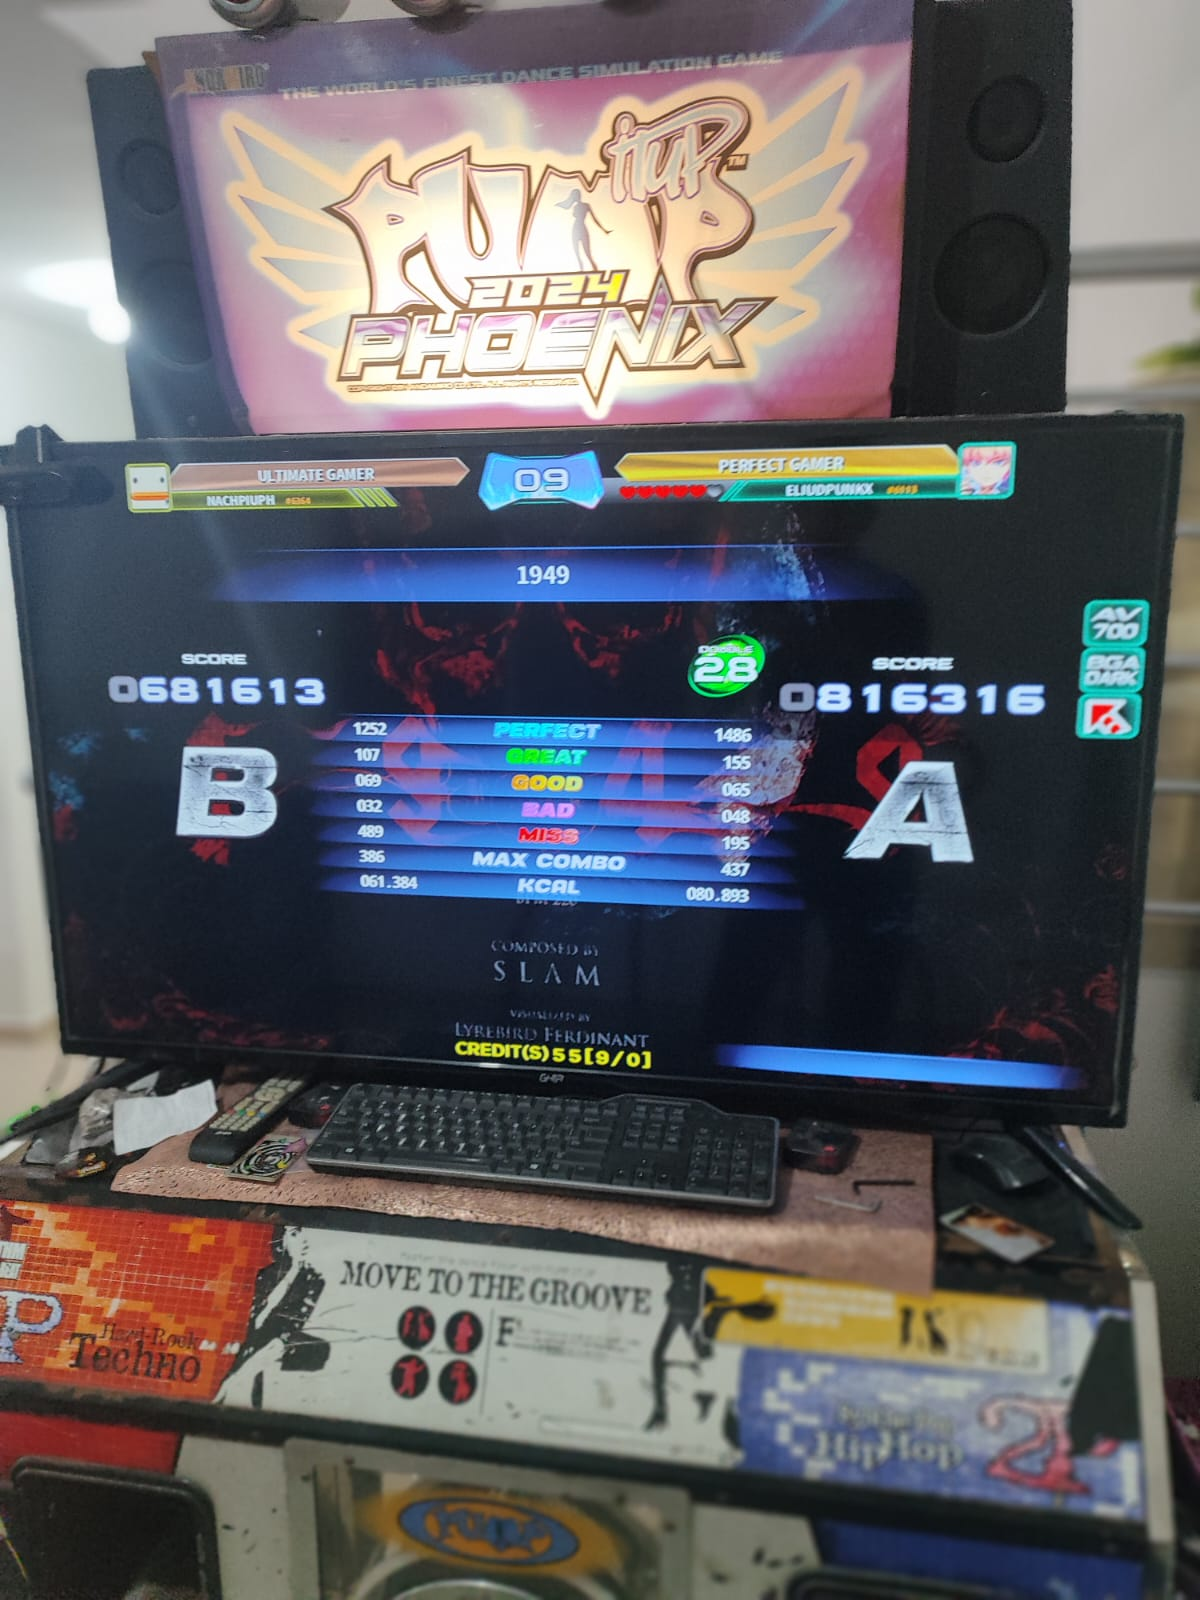difficulty: (671, 591, 771, 694)
fullscore: (353, 411, 1200, 1134)
rank: (834, 742, 1001, 906)
score: (745, 634, 1078, 731)
song_name: (349, 548, 721, 622)
